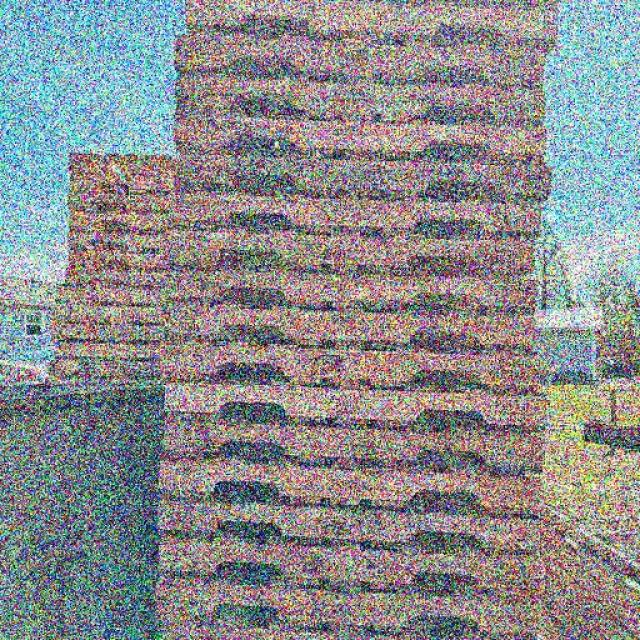non-igps: (152, 514, 556, 604), (150, 478, 552, 566), (146, 554, 548, 640), (149, 446, 550, 528), (154, 404, 552, 486), (156, 284, 541, 366), (152, 329, 550, 407), (166, 139, 558, 217), (157, 371, 554, 447), (161, 218, 538, 297), (170, 65, 551, 141), (161, 25, 552, 99), (163, 181, 547, 255), (167, 106, 555, 177), (164, 259, 544, 326), (178, 0, 572, 64), (44, 350, 170, 388), (63, 200, 177, 240), (62, 222, 178, 260), (62, 243, 178, 280), (50, 278, 172, 313), (63, 184, 180, 220), (63, 147, 183, 182), (47, 316, 170, 350), (47, 298, 173, 331), (65, 168, 185, 200), (51, 333, 167, 365), (60, 263, 174, 295)
